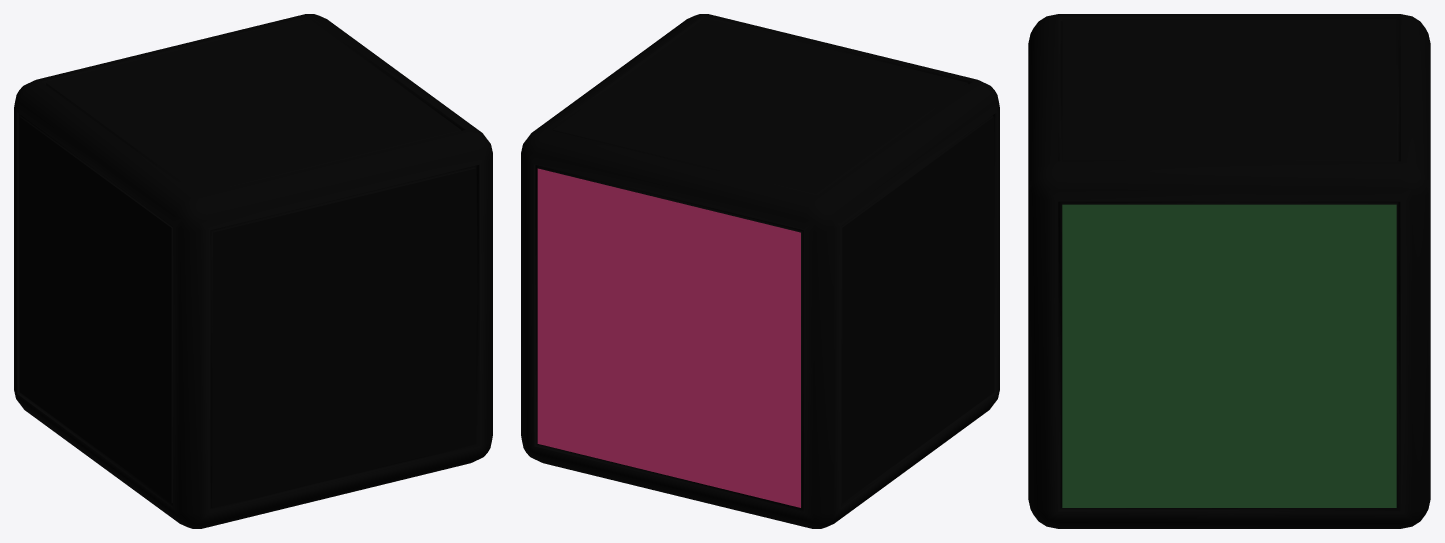
The model's file is oneCubeObjToOrg9.gltf.
3 views of the same model, side by side, from view 1: azimuth 30°, elevation 25°; view 2: azimuth 150°, elevation 25°; view 3: azimuth 270°, elevation 25° (orthographic). The views are drawn at different scales.
Parts seen in each view (by area): view 1: Cube.026; view 2: Cube.026; view 3: Cube.026.
Part boxes in pixels (x1,y1,x2,y2): Cube.026: (14, 14, 492, 528); Cube.026: (521, 14, 999, 528); Cube.026: (1028, 14, 1430, 528).
Size of the model in its own units: 2 by 2 by 2.
